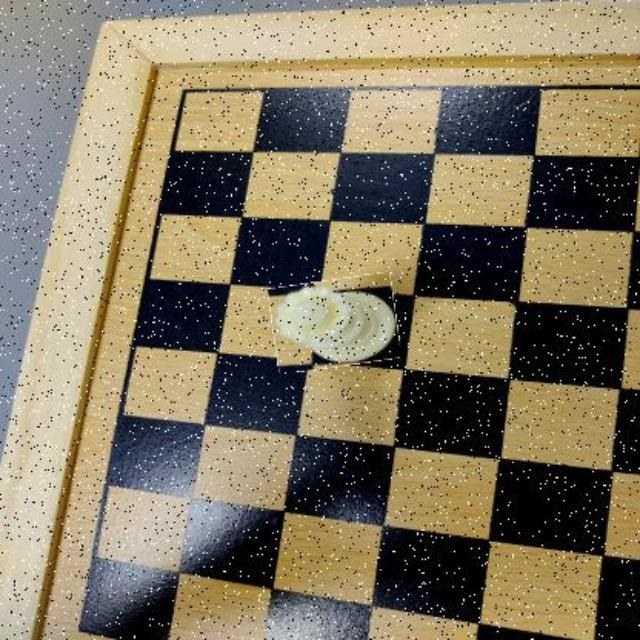white-queen: (271, 276, 398, 369)
